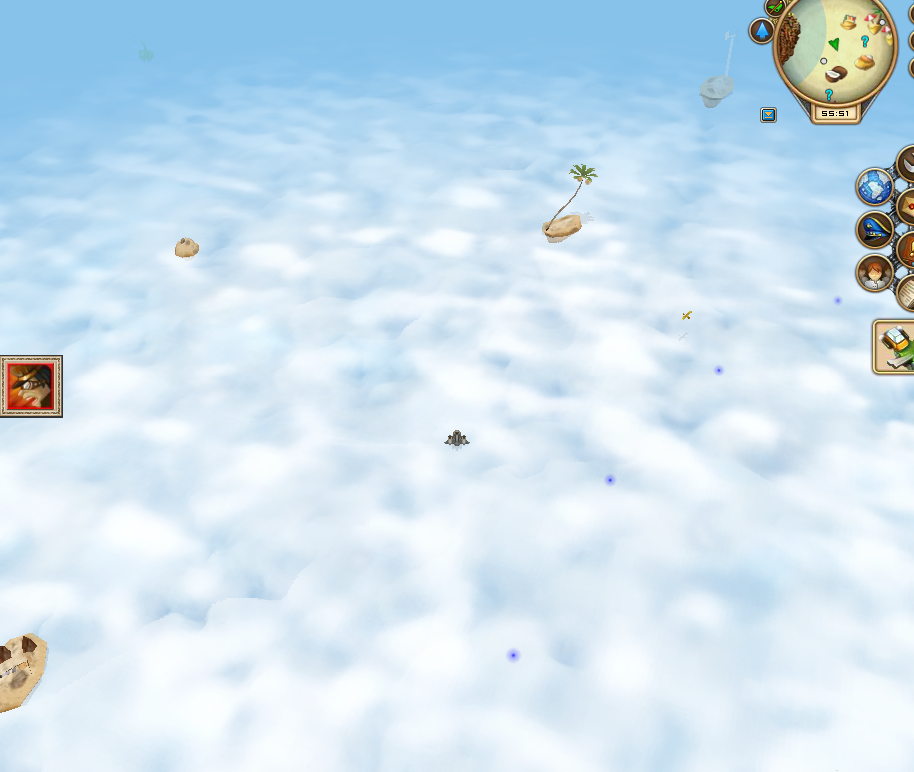palm: (536, 160, 599, 248)
